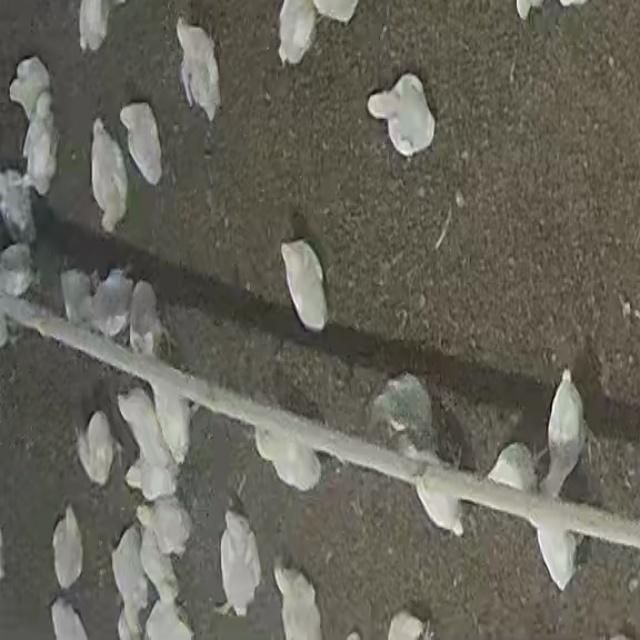chicken: (545, 366, 604, 496), (116, 386, 179, 491), (275, 239, 339, 338), (215, 506, 264, 622), (368, 72, 434, 156), (176, 17, 221, 125), (253, 424, 323, 493), (89, 117, 129, 232), (136, 520, 184, 610), (111, 524, 151, 622), (120, 103, 164, 186), (275, 564, 324, 638), (415, 468, 468, 536), (127, 278, 169, 359), (74, 411, 117, 488), (89, 268, 134, 341), (143, 497, 191, 559), (276, 0, 317, 66), (52, 506, 84, 590), (488, 444, 534, 494)
